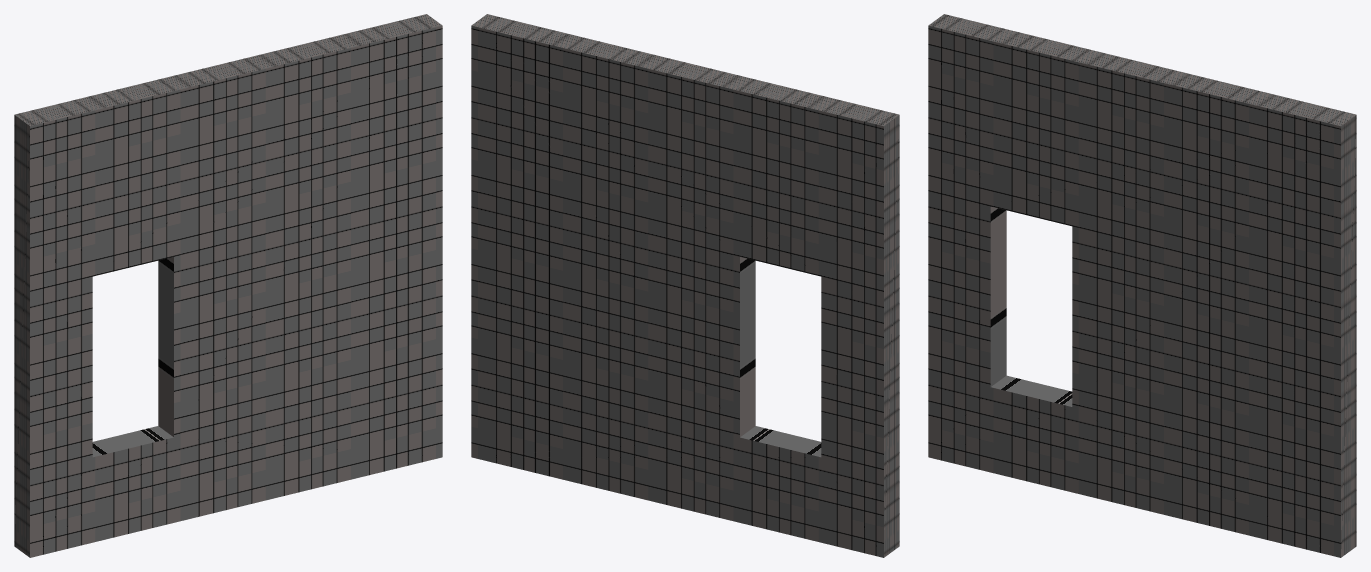
File: wall.fbx
The picture shows the model from 3 angles, left to right: view 1: azimuth 30°, elevation 25°; view 2: azimuth 150°, elevation 25°; view 3: azimuth 330°, elevation 25°; orthographic projection.
Visible parts, largest first — view 1: Cube.090; view 2: Cube.090; view 3: Cube.090.
Boxes of the visible parts, <box> form: Cube.090: <box>14,14,442,557</box>; Cube.090: <box>471,14,899,557</box>; Cube.090: <box>928,14,1356,557</box>.
Bounding box in the file's own units: 6701 × 6701 × 446.
